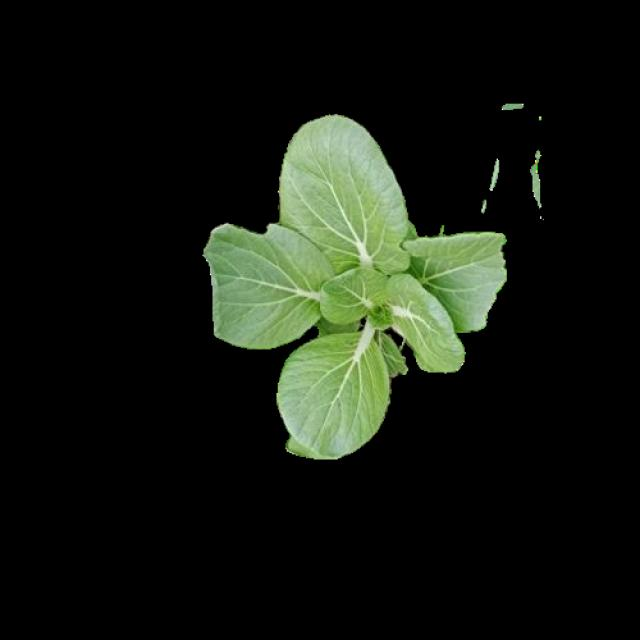healthy: (204, 113, 503, 453)
not-mature: (206, 115, 506, 456)
